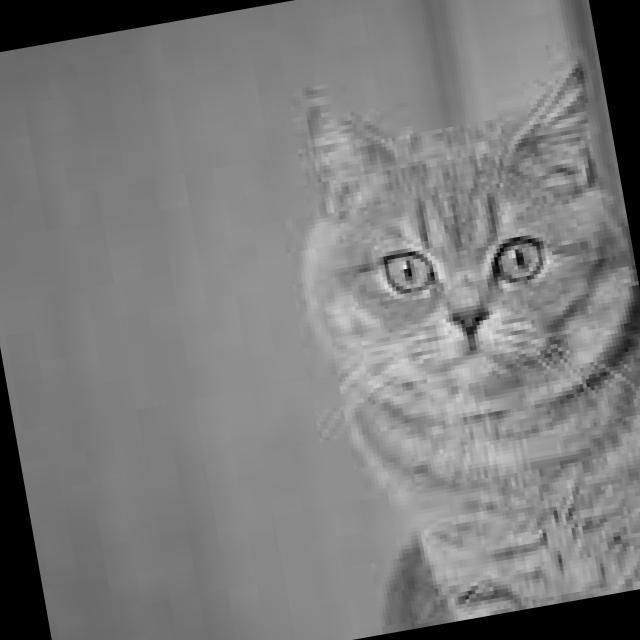british: (251, 0, 640, 473)
